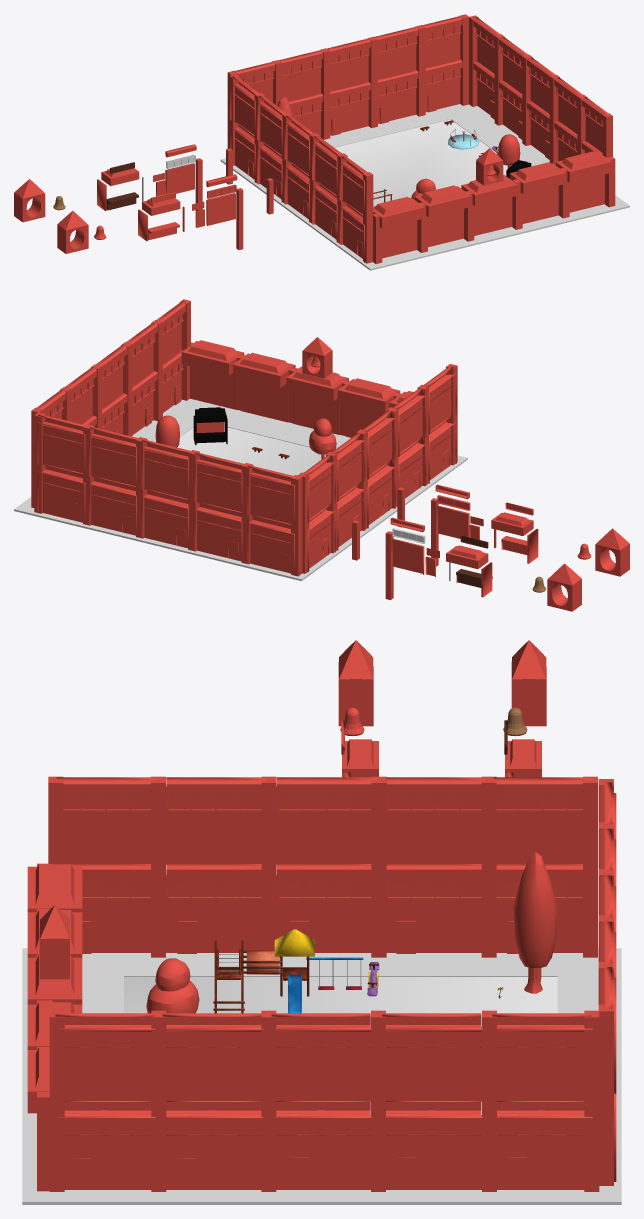
The model's file is Escenario-para-unity.fbx_Scene.fbx.
3 views of the same model, one above another, from view 1: azimuth 30°, elevation 25°; view 2: azimuth 150°, elevation 25°; view 3: azimuth 270°, elevation 25° (orthographic). The views are drawn at different scales.
Visible parts, largest first — view 1: Grid, Cube, polySurface38.004, polySurface2.013, polySurface38.002, polySurface38.006, polySurface2.014, polySurface38.005, polySurface2.015, polySurface2.022, polySurface2.012, Cube.005 (+67 smaller); view 2: Cube, Grid, polySurface2.034, polySurface2.033, polySurface2.030, polySurface2.032, polySurface2.031, polySurface2.029, polySurface2.028, polySurface2.027, polySurface2.036, polySurface2.035 (+50 smaller); view 3: Cube, Grid, polySurface2.023, polySurface2.018, polySurface2.020, polySurface2.024, polySurface2.019, polySurface2.021, polySurface2.025, polySurface2.016, polySurface2.026, polySurface2.017 (+67 smaller).
Boxes of the visible parts, x1,y1,x2,y2 form: Grid: (334, 119, 511, 206); Cube: (220, 104, 629, 270); polySurface38.004: (509, 162, 565, 194); polySurface2.013: (474, 197, 512, 235); polySurface38.002: (415, 185, 471, 217); polySurface38.006: (556, 151, 612, 182); polySurface2.014: (522, 185, 559, 223); polySurface38.005: (373, 196, 424, 228); polySurface2.015: (569, 174, 604, 212); polySurface2.022: (382, 220, 417, 258); polySurface2.012: (428, 209, 463, 247); Cube.005: (14, 179, 45, 222); Cube: (14, 398, 467, 581); Grid: (177, 427, 325, 475); polySurface2.034: (194, 460, 242, 513); polySurface2.033: (194, 509, 242, 562); polySurface2.030: (89, 434, 136, 487); polySurface2.032: (141, 447, 188, 500); polySurface2.031: (141, 497, 188, 549); polySurface2.029: (89, 484, 136, 536); polySurface2.028: (37, 422, 85, 475); polySurface2.027: (37, 471, 85, 524); polySurface2.036: (247, 473, 294, 526); polySurface2.035: (247, 522, 294, 575); Cube: (22, 948, 621, 1204); Grid: (124, 977, 557, 1114); polySurface2.023: (385, 1115, 482, 1189); polySurface2.018: (166, 1116, 263, 1189); polySurface2.020: (274, 1115, 371, 1189); polySurface2.024: (385, 1026, 482, 1101); polySurface2.019: (166, 1026, 263, 1100); polySurface2.021: (274, 1026, 371, 1101); polySurface2.025: (495, 1116, 592, 1189); polySurface2.016: (58, 1116, 155, 1189); polySurface2.026: (495, 1026, 592, 1100); polySurface2.017: (58, 1026, 155, 1100).
Bounding box in the file's own units: 4239 × 947 × 2269.
Materials: 11 (2 with a texture image).
